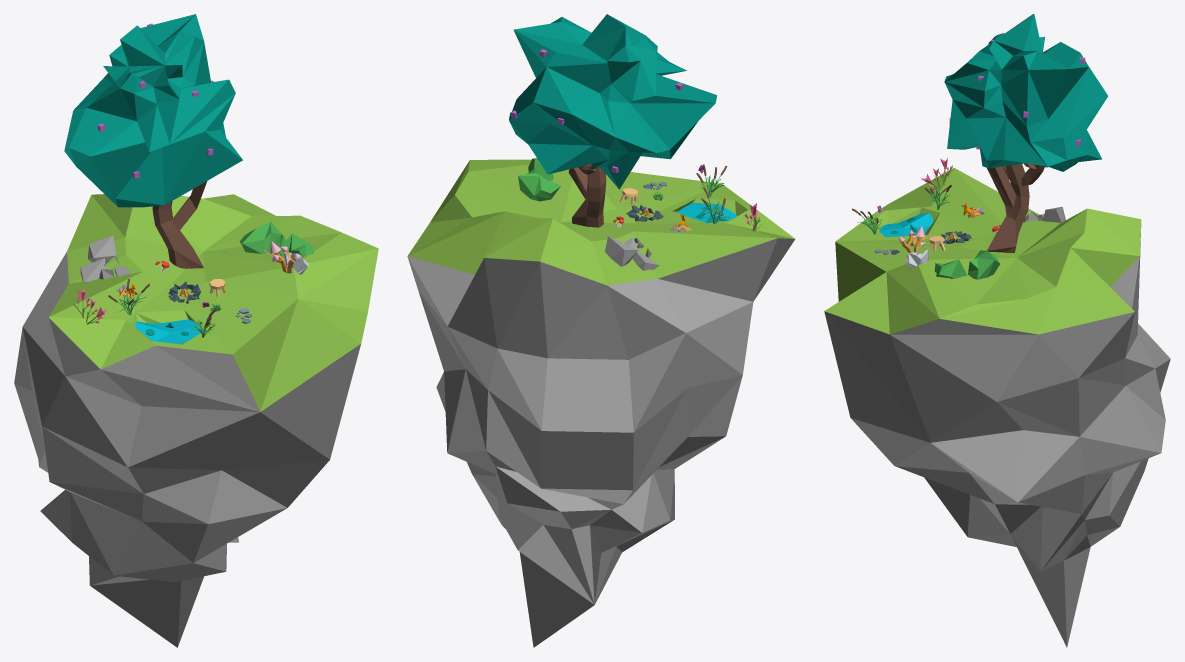
File: island.glb
The picture shows the model from 3 angles, left to right: view 1: azimuth 30°, elevation 25°; view 2: azimuth 150°, elevation 25°; view 3: azimuth 270°, elevation 25°; orthographic projection. The views are drawn at different scales.
Parts seen in each view (by area): view 1: group89880989, group66116416, group1427171881, group950227613, group451614104, group1036978087; view 2: group89880989, group66116416, group1427171881, group451614104, group950227613, group1036978087; view 3: group89880989, group66116416, group1427171881, group950227613, group451614104, group2100907415.
Boxes of the visible parts, box(x1,y1,x2,y2) form: group89880989: box(14, 194, 378, 647); group66116416: box(64, 14, 242, 207); group1427171881: box(152, 181, 207, 268); group950227613: box(135, 319, 203, 343); group451614104: box(239, 221, 285, 253); group1036978087: box(87, 235, 116, 262); group89880989: box(407, 159, 795, 647); group66116416: box(509, 14, 716, 189); group1427171881: box(568, 167, 606, 227); group451614104: box(518, 169, 560, 201); group950227613: box(677, 202, 736, 223); group1036978087: box(605, 236, 637, 266); group89880989: box(824, 168, 1170, 647); group66116416: box(944, 14, 1107, 171); group1427171881: box(987, 164, 1029, 252); group950227613: box(879, 213, 932, 237); group451614104: box(968, 250, 999, 279); group2100907415: box(901, 234, 929, 268).
Bounding box in the file's own units: 0.9052 × 1.74 × 0.9007.
